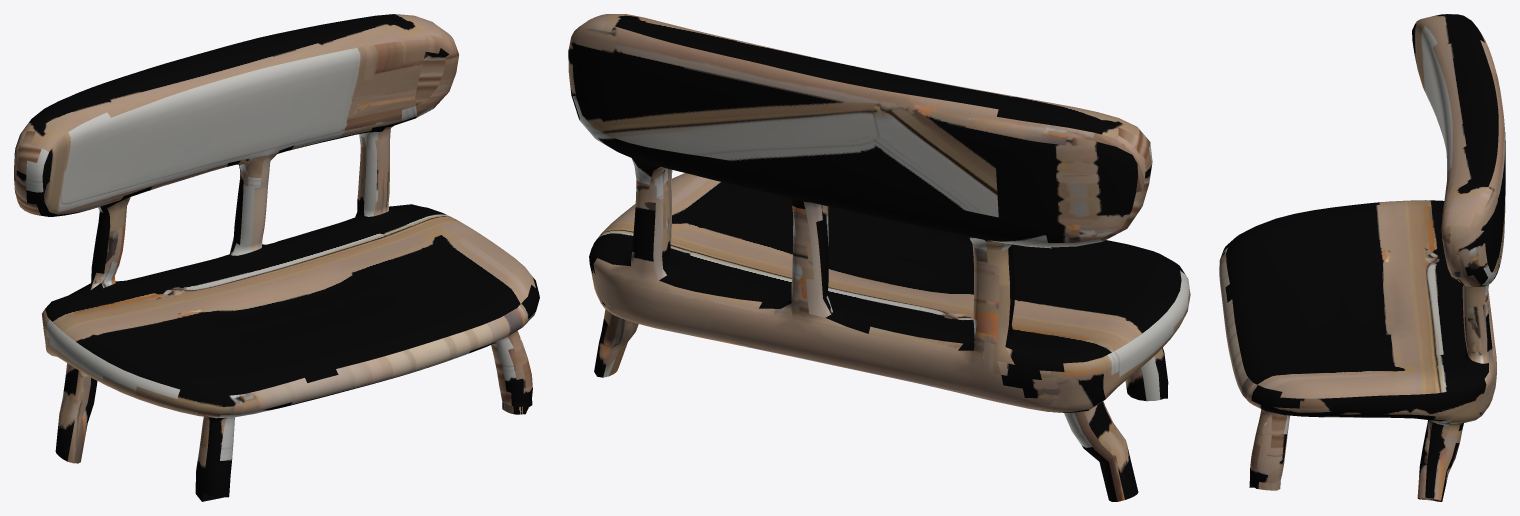
Rendered from banca.obj.
3 views of the same model, side by side, from view 1: azimuth 30°, elevation 25°; view 2: azimuth 150°, elevation 25°; view 3: azimuth 270°, elevation 25° (orthographic). The views are drawn at different scales.
Parts seen in each view (by area): view 1: banca:Mesh; view 2: banca:Mesh; view 3: banca:Mesh.
Part boxes in pixels (bbox=[...]): banca:Mesh: bbox=[14, 14, 539, 501]; banca:Mesh: bbox=[568, 14, 1190, 501]; banca:Mesh: bbox=[1219, 14, 1505, 501].
Bounding box in the file's own units: 5.04 × 3.54 × 2.9.
